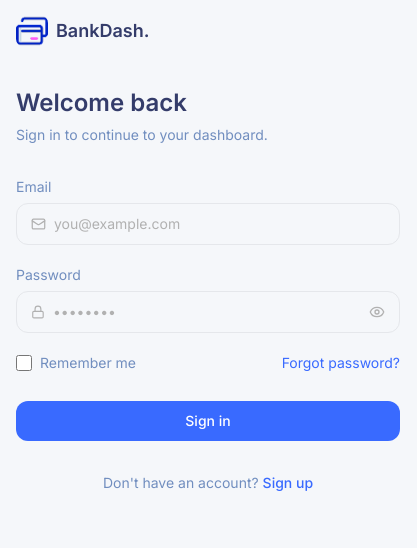
LoginForm › should show an error and not redirect when the credentials are invalid
The image size is (417, 548).
Type "joao@example.com" into the field labelled "Email". click: (220, 224)
box: x1=54 y1=214 x2=385 y2=234
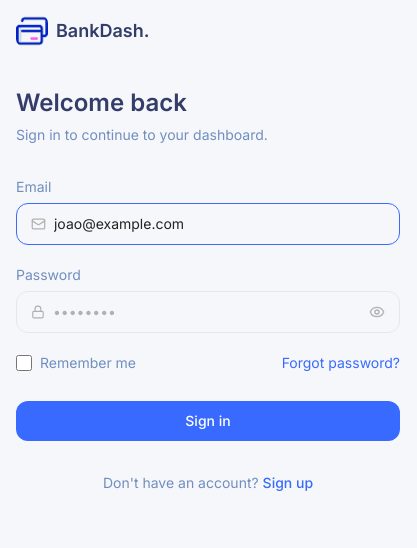
Type "wrong" into the password field labelled "Password". click: (207, 312)
box: x1=53 y1=302 x2=361 y2=322
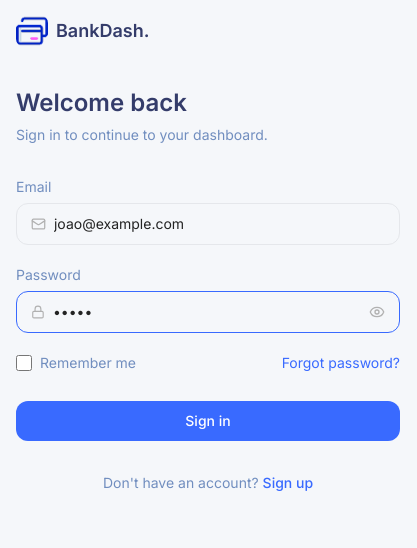
Click the button "Sign in". click: (208, 421)
box: x1=16 y1=401 x2=400 y2=441
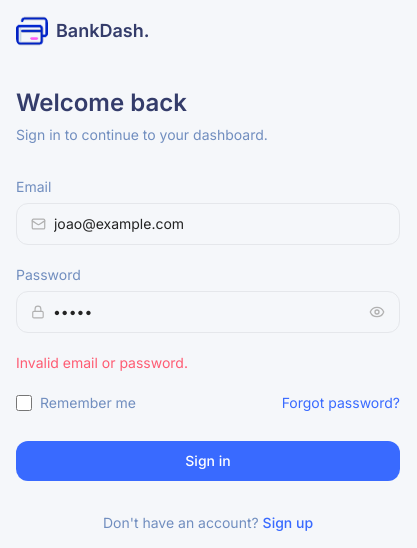
Expected: the button "Sign in" is enabled, x1=16 y1=441 x2=400 y2=481
Expected: the text "Invalid email or password." is shown, x1=16 y1=354 x2=188 y2=371
